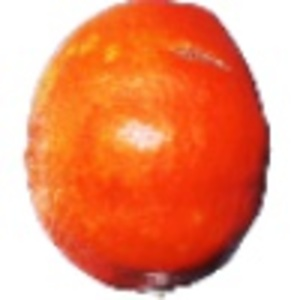tangerina: (21, 1, 272, 300)
